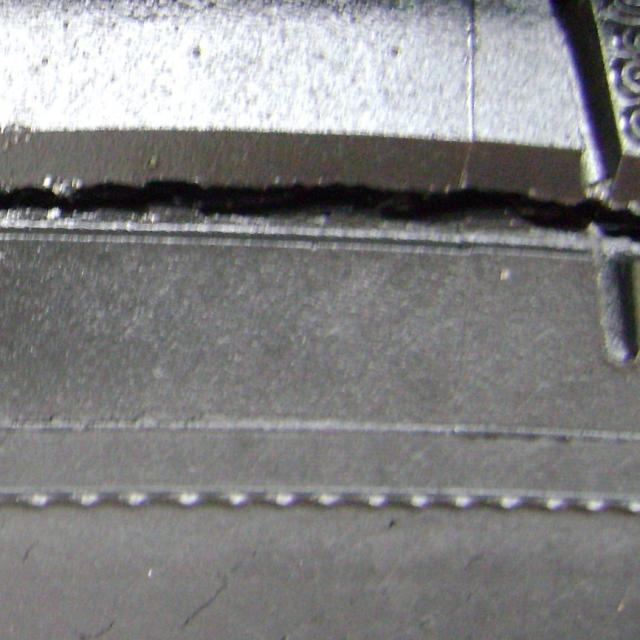Cracks: (0, 157, 639, 266), (164, 556, 256, 640)
